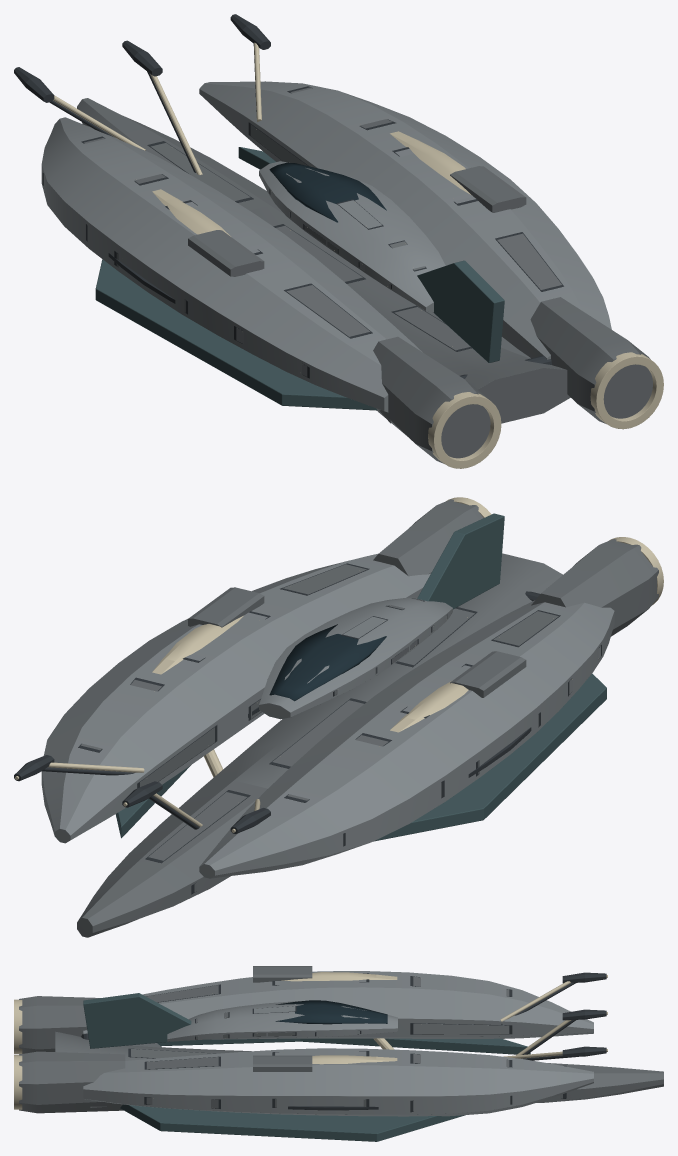
File: cruiser_council_sentinel.glb
The picture shows the model from 3 angles, top to bottom: view 1: azimuth 30°, elevation 25°; view 2: azimuth 150°, elevation 25°; view 3: azimuth 270°, elevation 25°; orthographic projection. The views are drawn at different scales.
Visible parts, largest first — view 1: v4_council_hull, v4_council_secondary, v4_council_paint, v4_council_trim, v4_council_dark, v4_council_glass; view 2: v4_council_hull, v4_council_secondary, v4_council_paint, v4_council_dark, v4_council_trim, v4_council_glass; view 3: v4_council_hull, v4_council_secondary, v4_council_paint, v4_council_dark, v4_council_trim, v4_council_glass.
Part boxes in pixels (x1,y1,x2,y2): v4_council_hull: (41, 81, 611, 412); v4_council_secondary: (54, 87, 652, 463); v4_council_paint: (95, 147, 504, 410); v4_council_trim: (53, 42, 663, 468); v4_council_dark: (14, 14, 563, 378); v4_council_glass: (269, 162, 386, 222); v4_council_hull: (41, 554, 614, 878); v4_council_secondary: (54, 499, 658, 937); v4_council_paint: (115, 513, 606, 841); v4_council_dark: (14, 563, 601, 894); v4_council_trim: (15, 497, 663, 851); v4_council_glass: (269, 624, 386, 701); v4_council_hull: (83, 971, 593, 1116); v4_council_secondary: (19, 966, 663, 1113); v4_council_paint: (83, 993, 530, 1141); v4_council_dark: (81, 972, 606, 1112); v4_council_trim: (14, 972, 607, 1109); v4_council_glass: (275, 1000, 387, 1024).
Size of the model in its own units: 51.58 by 18.86 by 107.
